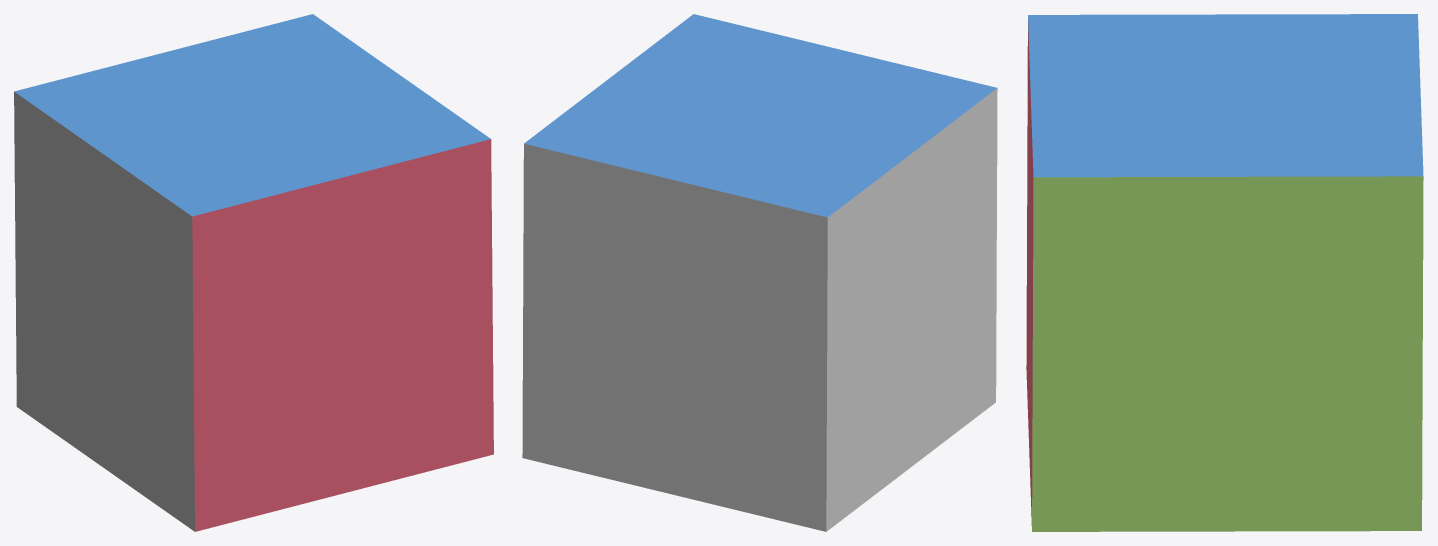
Rendered from trajectory.dae.
3 views of the same model, side by side, from view 1: azimuth 30°, elevation 25°; view 2: azimuth 150°, elevation 25°; view 3: azimuth 270°, elevation 25° (orthographic). The views are drawn at different scales.
Parts seen in each view (by area): view 1: sim-robot; view 2: sim-robot; view 3: sim-robot.
Part boxes in pixels (box(x1,y1,x2,y2)): sim-robot: box(14, 14, 493, 531); sim-robot: box(522, 14, 997, 531); sim-robot: box(1026, 14, 1423, 531).
Size of the model in its own units: 0.3063 by 0.3054 by 0.3032.
